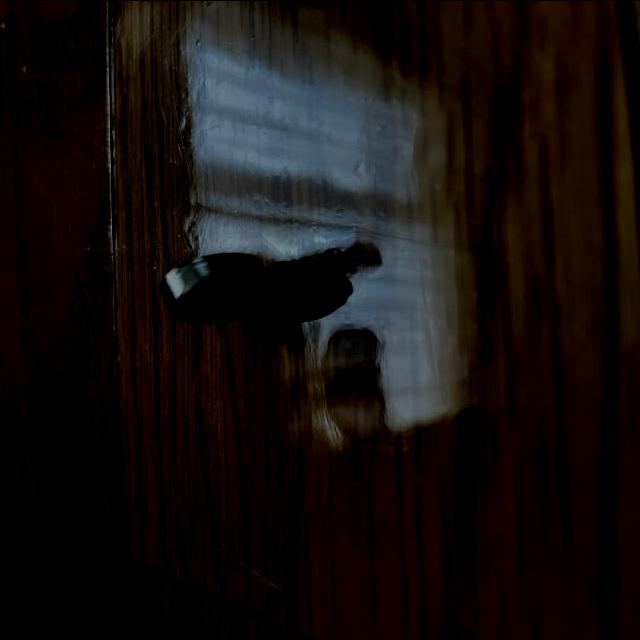COIN: (159, 245, 281, 328)
